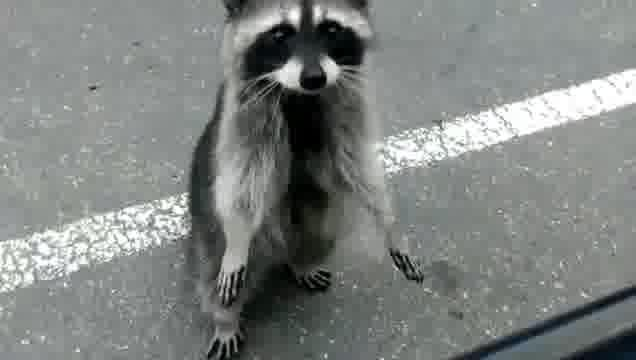raccoon: (174, 0, 428, 360)
